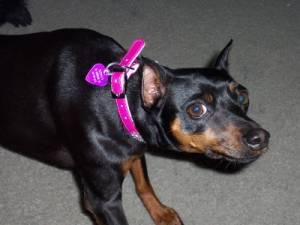dog: (139, 38, 269, 162)
